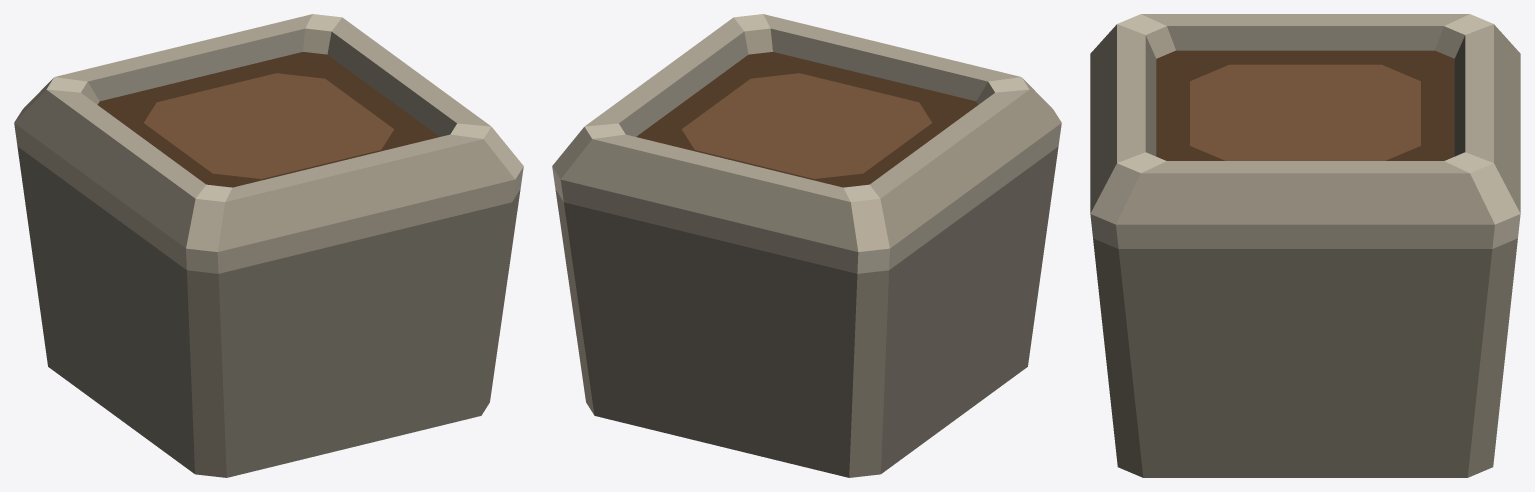
The model's file is CS_Plant_Pot_02.fbx.
3 views of the same model, side by side, from view 1: azimuth 30°, elevation 25°; view 2: azimuth 150°, elevation 25°; view 3: azimuth 270°, elevation 25° (orthographic). The views are drawn at different scales.
Parts seen in each view (by area): view 1: CS_Plant_Pot_02; view 2: CS_Plant_Pot_02; view 3: CS_Plant_Pot_02.
Part boxes in pixels (x1,y1,x2,y2): CS_Plant_Pot_02: [14, 14, 523, 477]; CS_Plant_Pot_02: [552, 14, 1061, 477]; CS_Plant_Pot_02: [1090, 14, 1520, 477].
Bounding box in the file's own units: 0.513 × 0.4012 × 0.513.
